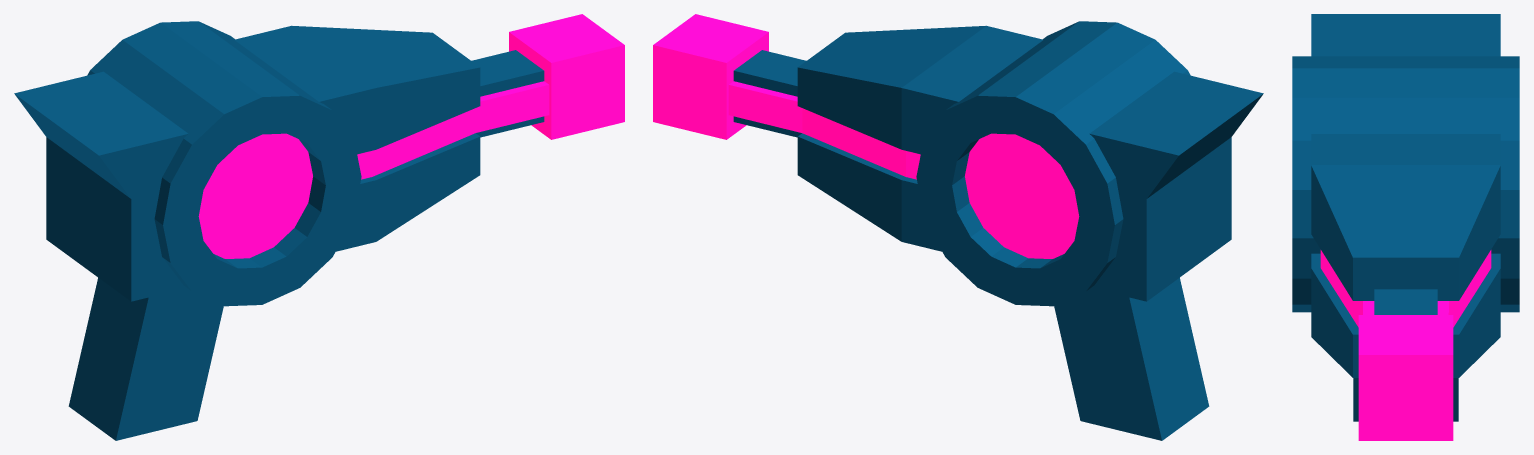
File: gun-pew-pew.glb
3 renders of one model, left to right at view 1: azimuth 30°, elevation 25°; view 2: azimuth 150°, elevation 25°; view 3: azimuth 270°, elevation 25°, orthographic. The views are drawn at different scales.
Visible parts, largest first — view 1: gun-pew-pew, gun-pew-pew-crystal-glow-base, gun-pew-pew-crystal-glow; view 2: gun-pew-pew, gun-pew-pew-crystal-glow-base, gun-pew-pew-crystal-glow; view 3: gun-pew-pew, gun-pew-pew-crystal-glow, gun-pew-pew-crystal-glow-base.
Boxes of the visible parts, x1,y1,x2,y2 form: gun-pew-pew: (14,21,544,440); gun-pew-pew-crystal-glow-base: (198,81,549,258); gun-pew-pew-crystal-glow: (509,14,624,139); gun-pew-pew: (733,21,1263,440); gun-pew-pew-crystal-glow-base: (728,81,1079,258); gun-pew-pew-crystal-glow: (653,14,768,139); gun-pew-pew: (1292,14,1519,421); gun-pew-pew-crystal-glow: (1358,315,1453,440); gun-pew-pew-crystal-glow-base: (1320,250,1491,327).
Bounding box in the file's own units: 0.372 × 0.2175 × 0.12.
